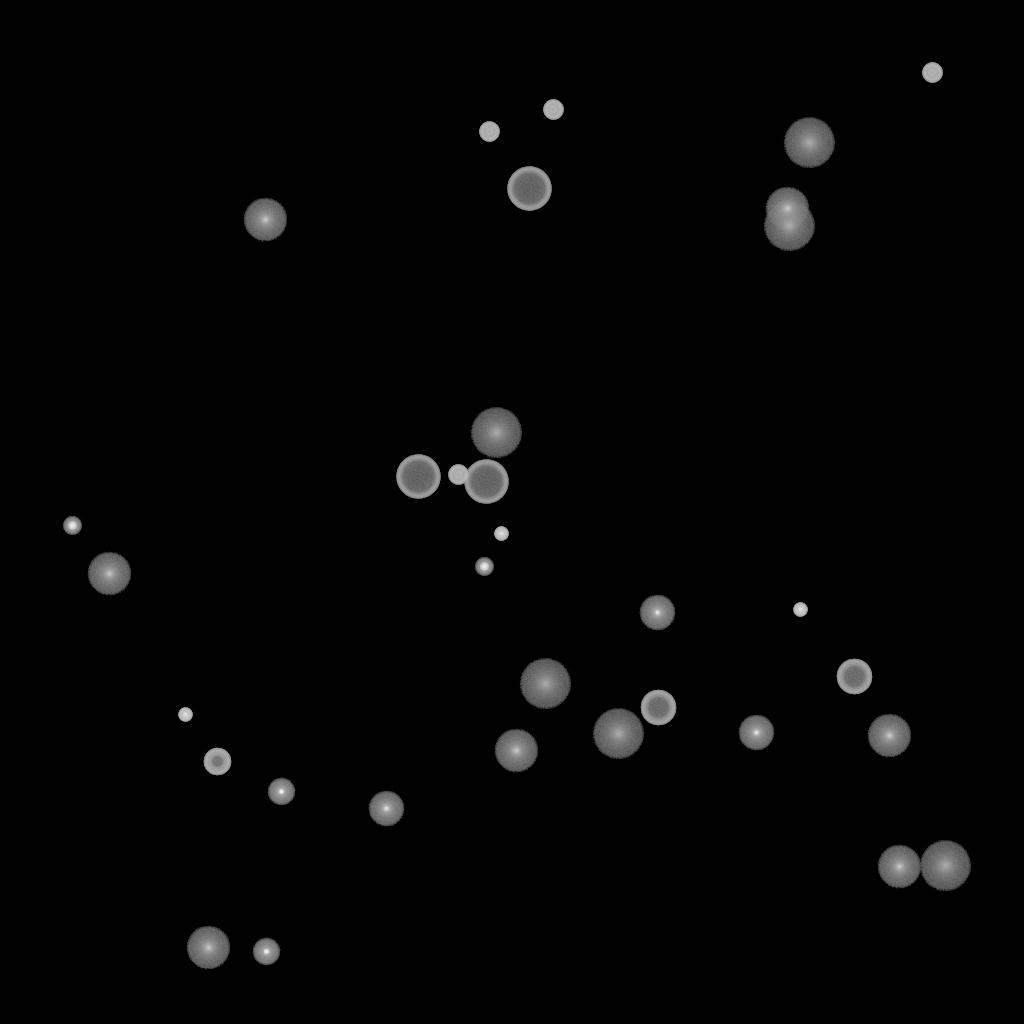depth:-10: (252, 938, 280, 966), (267, 778, 295, 806)
depth:-20: (63, 517, 81, 535), (475, 558, 493, 576)
depth:-30: (178, 708, 192, 722), (494, 527, 508, 541), (793, 603, 807, 617)
depth:-40: (448, 465, 468, 485), (543, 100, 563, 120), (479, 122, 499, 142), (922, 63, 942, 83)
depth:-50: (203, 748, 231, 776)
depth:-60: (836, 659, 872, 695), (640, 690, 676, 726)
depth:-70: (464, 460, 508, 504), (507, 167, 551, 211), (396, 455, 440, 499)
depth:0: (639, 595, 675, 631), (738, 715, 774, 751), (368, 791, 404, 827)
depth:10: (867, 714, 911, 758), (494, 729, 538, 773), (877, 845, 921, 889), (87, 552, 131, 596), (186, 926, 230, 970), (765, 187, 809, 231), (243, 198, 287, 242)
depth:20: (470, 408, 522, 458), (919, 841, 971, 891), (783, 118, 835, 168), (592, 709, 644, 759), (763, 201, 815, 251), (519, 659, 571, 709)
